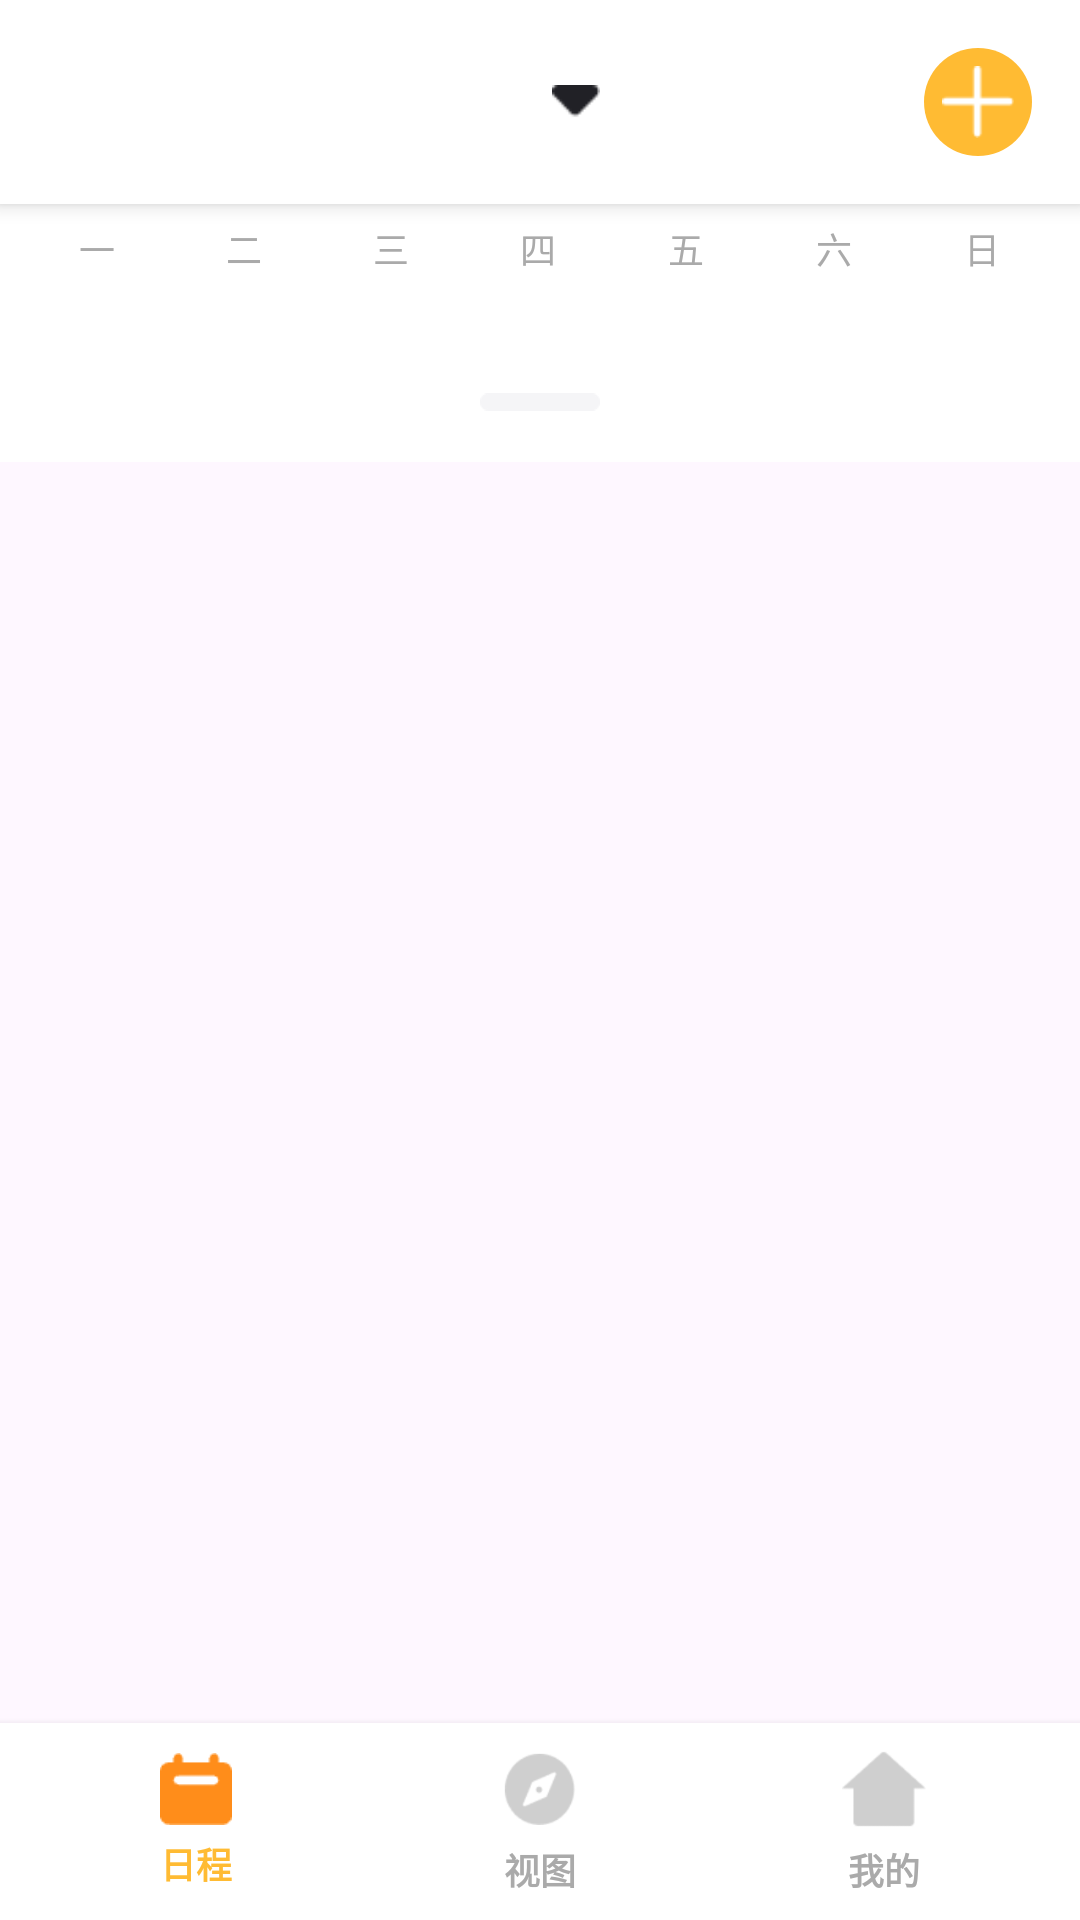

Named icons in this screenshot (1080 x 1920) and their centers, point (x, y):
下拉: point (576, 101)
添加: point (978, 102)
